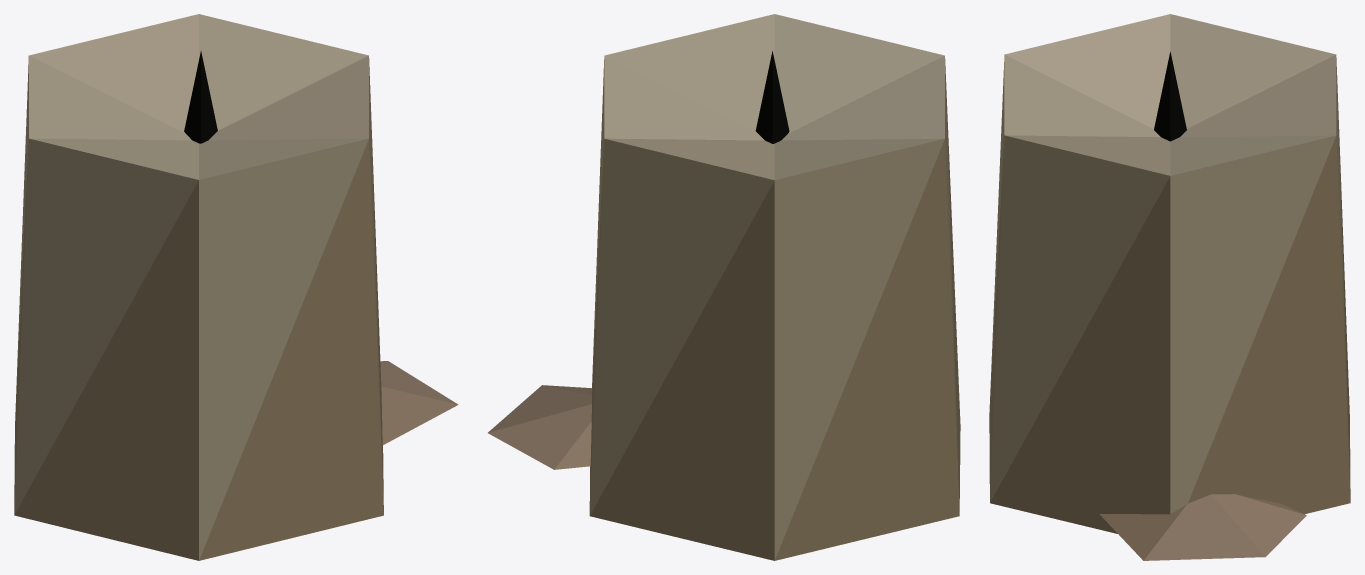
File: prop_lighting_candle3.fbx
3 views of the same model, side by side, from view 1: azimuth 30°, elevation 25°; view 2: azimuth 150°, elevation 25°; view 3: azimuth 270°, elevation 25° (orthographic). The views are drawn at different scales.
Parts seen in each view (by area): view 1: prop_lighting_candle3; view 2: prop_lighting_candle3; view 3: prop_lighting_candle3.
Part boxes in pixels (<box>): prop_lighting_candle3: <box>14,14,458,560</box>; prop_lighting_candle3: <box>488,14,960,560</box>; prop_lighting_candle3: <box>989,14,1350,560</box>.
Size of the model in its own units: 0.3051 by 0.284 by 0.2272.
